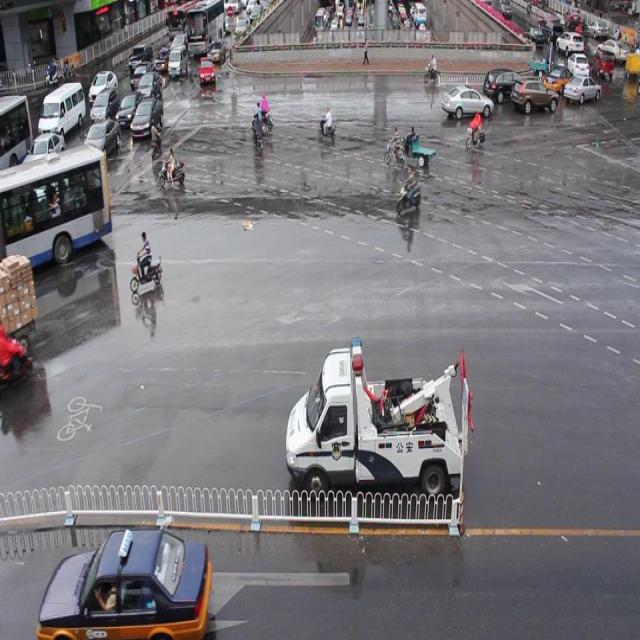bus: (285, 338, 464, 498)
car: (439, 84, 492, 119), (511, 78, 556, 114), (482, 68, 526, 103)
